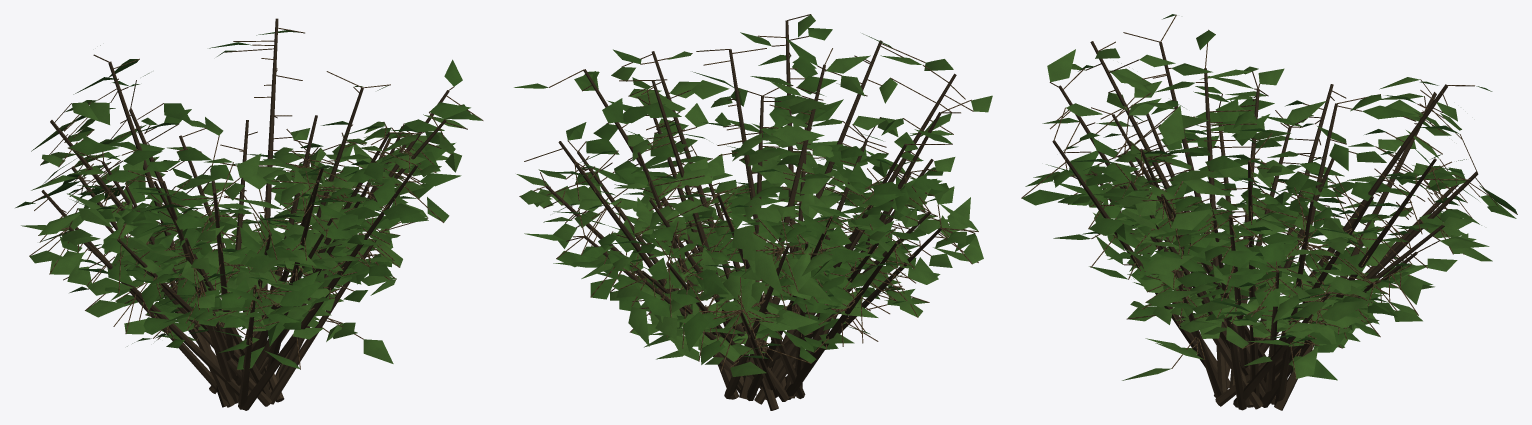
The model's file is level_hc_native_020_0.glb.
The picture shows the model from 3 angles, left to right: view 1: azimuth 30°, elevation 25°; view 2: azimuth 150°, elevation 25°; view 3: azimuth 270°, elevation 25°; orthographic projection. The views are drawn at different scales.
Parts seen in each view (by area): view 1: level_hc_native_020_0; view 2: level_hc_native_020_0; view 3: level_hc_native_020_0.
Boxes of the visible parts, x1=… form: level_hc_native_020_0: x1=15, y1=18, x2=483, y2=410; level_hc_native_020_0: x1=514, y1=14, x2=992, y2=410; level_hc_native_020_0: x1=1021, y1=14, x2=1517, y2=410.
Bounding box in the file's own units: 2.78 × 1.85 × 2.58.
Materials: 5 (5 with a texture image).
